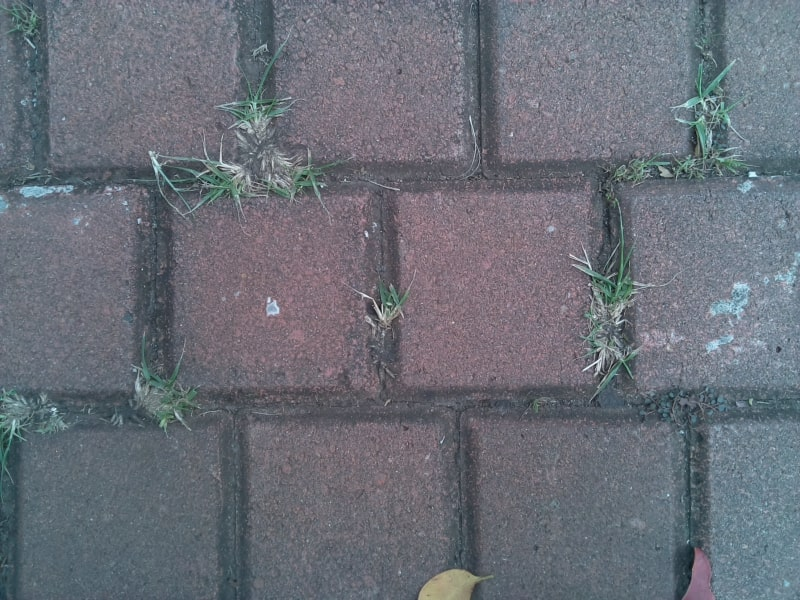Weed: (187, 95, 329, 205), (579, 239, 651, 384), (122, 339, 199, 429), (1, 373, 79, 447), (686, 68, 739, 166), (618, 151, 745, 184), (358, 276, 416, 337), (640, 389, 730, 428), (1, 3, 46, 51)
